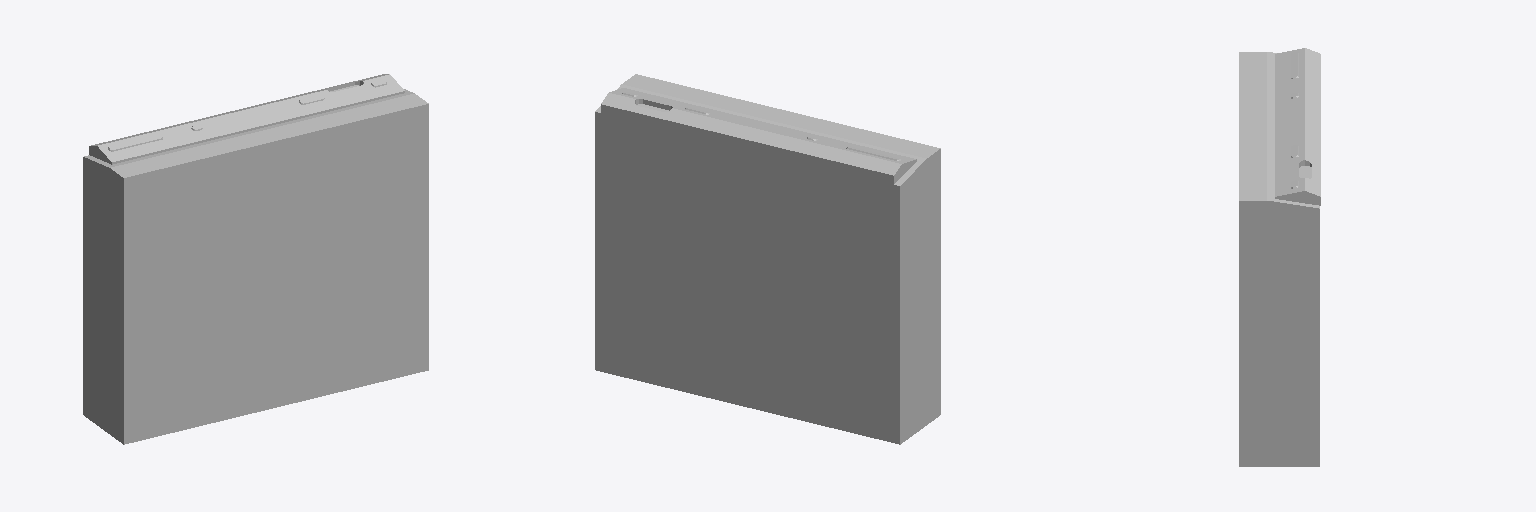
File: vcr.obj
3 views of the same model, side by side, from view 1: azimuth 30°, elevation 25°; view 2: azimuth 150°, elevation 25°; view 3: azimuth 270°, elevation 25° (orthographic).
Visible parts, largest first — view 1: vcr; view 2: vcr; view 3: vcr.
Boxes of the visible parts, x1,y1,x2,y2 form: vcr: [83, 74, 428, 444]; vcr: [595, 74, 940, 444]; vcr: [1239, 48, 1320, 466].
Bounding box in the file's own units: 19 × 16.27 × 4.39.